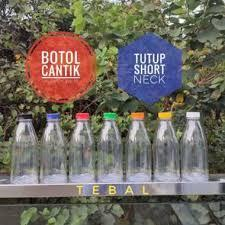BIODEGRADABLE: (9, 105, 44, 188), (63, 111, 100, 188), (180, 105, 211, 187), (96, 107, 125, 188), (154, 108, 182, 191), (40, 108, 69, 186), (124, 111, 152, 190)
